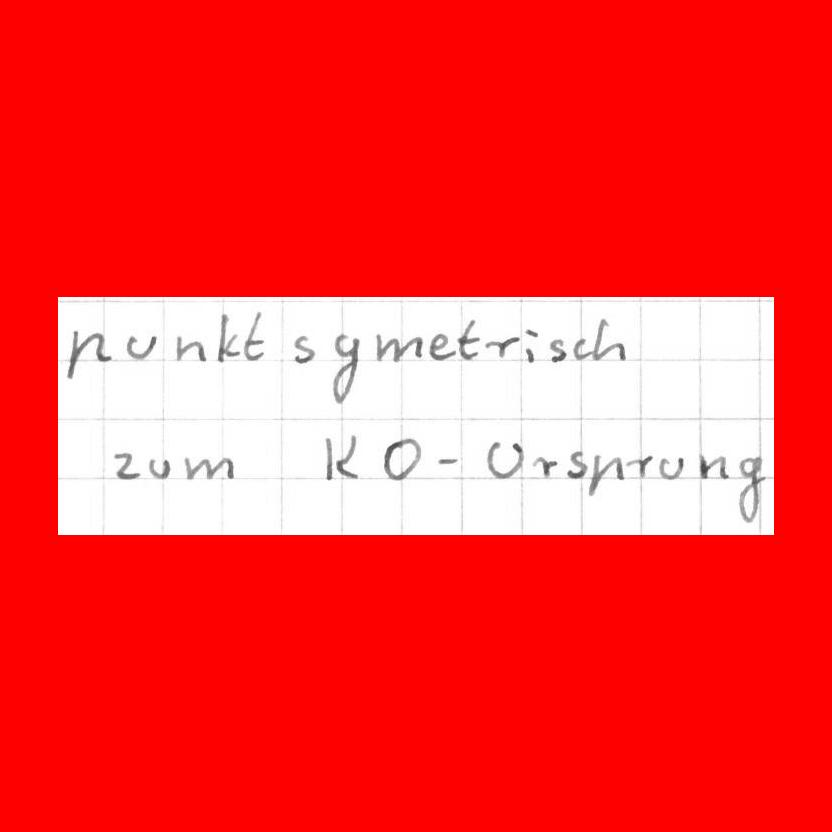Char: (64, 323, 114, 383), (328, 330, 362, 407), (736, 453, 768, 525), (380, 431, 424, 481), (321, 430, 363, 482), (483, 434, 526, 480), (374, 330, 425, 367), (181, 453, 241, 483), (589, 315, 628, 360), (589, 449, 625, 496), (215, 307, 242, 365), (242, 305, 268, 362), (125, 329, 161, 363), (173, 329, 207, 363), (110, 449, 144, 482), (287, 329, 317, 365), (696, 450, 731, 480), (459, 318, 482, 361), (483, 333, 520, 359), (428, 330, 457, 361), (657, 453, 687, 481), (625, 451, 653, 480), (564, 448, 586, 479), (523, 325, 540, 365), (533, 454, 558, 480), (571, 333, 592, 362), (147, 456, 172, 480), (546, 335, 568, 362), (434, 449, 463, 469)
